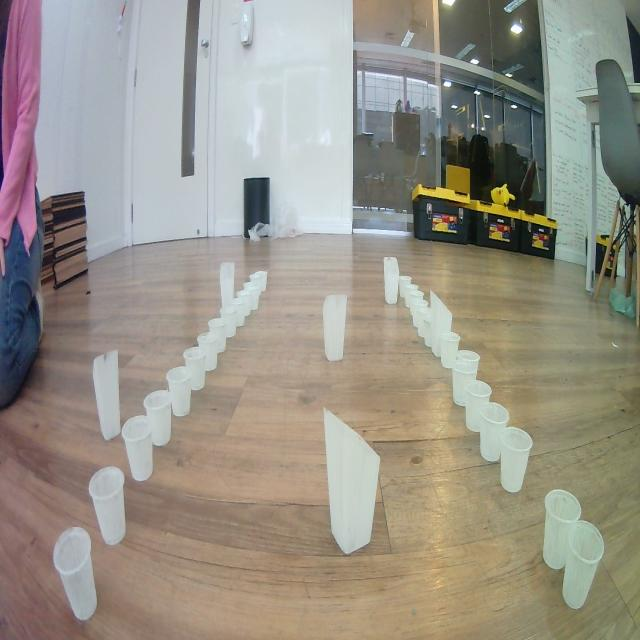erva_daninha: (323, 407, 381, 555), (93, 349, 121, 442), (323, 294, 348, 362), (430, 290, 453, 358), (383, 257, 400, 305), (220, 261, 235, 310)
planta: (52, 526, 98, 622), (563, 520, 604, 610), (543, 488, 582, 571), (88, 466, 126, 546), (500, 426, 533, 494), (122, 414, 154, 482), (478, 402, 510, 463), (143, 390, 172, 447), (464, 380, 493, 433), (166, 366, 193, 417), (452, 359, 477, 406), (183, 346, 206, 391), (197, 332, 218, 371), (440, 331, 461, 369), (208, 317, 228, 353), (458, 350, 480, 380), (220, 304, 238, 338), (417, 306, 432, 338), (243, 282, 260, 310), (230, 298, 246, 327), (412, 299, 428, 327), (409, 290, 424, 317), (250, 271, 268, 293), (237, 290, 252, 316), (403, 283, 418, 308), (424, 316, 434, 348), (399, 276, 412, 299)
